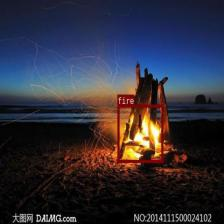fire: (117, 104, 163, 162)
